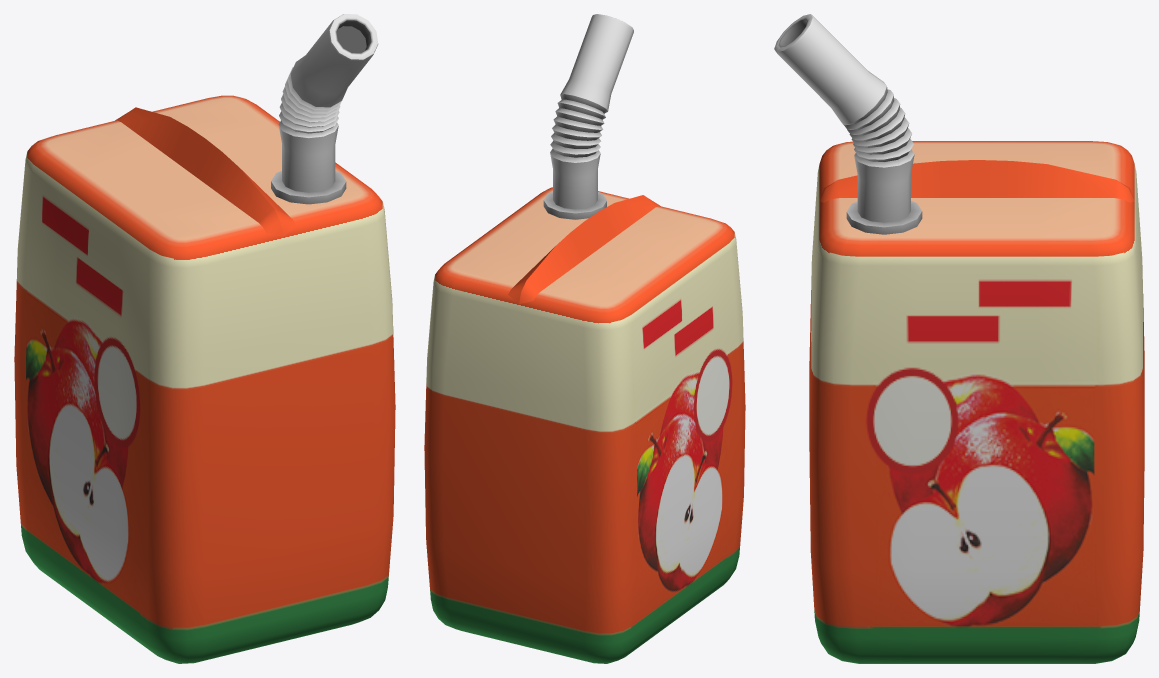
The model's file is FruitJuice.fbx.
3 views of the same model, side by side, from view 1: azimuth 30°, elevation 25°; view 2: azimuth 150°, elevation 25°; view 3: azimuth 270°, elevation 25° (orthographic). The views are drawn at different scales.
Parts seen in each view (by area): view 1: FruitJuice; view 2: FruitJuice; view 3: FruitJuice.
Part boxes in pixels (box(x1,y1,x2,y2)): FruitJuice: box(14, 14, 395, 663); FruitJuice: box(424, 14, 745, 663); FruitJuice: box(774, 14, 1144, 663).
Bounding box in the file's own units: 26.14 × 65.12 × 34.67.
1 material, 1 textured.
